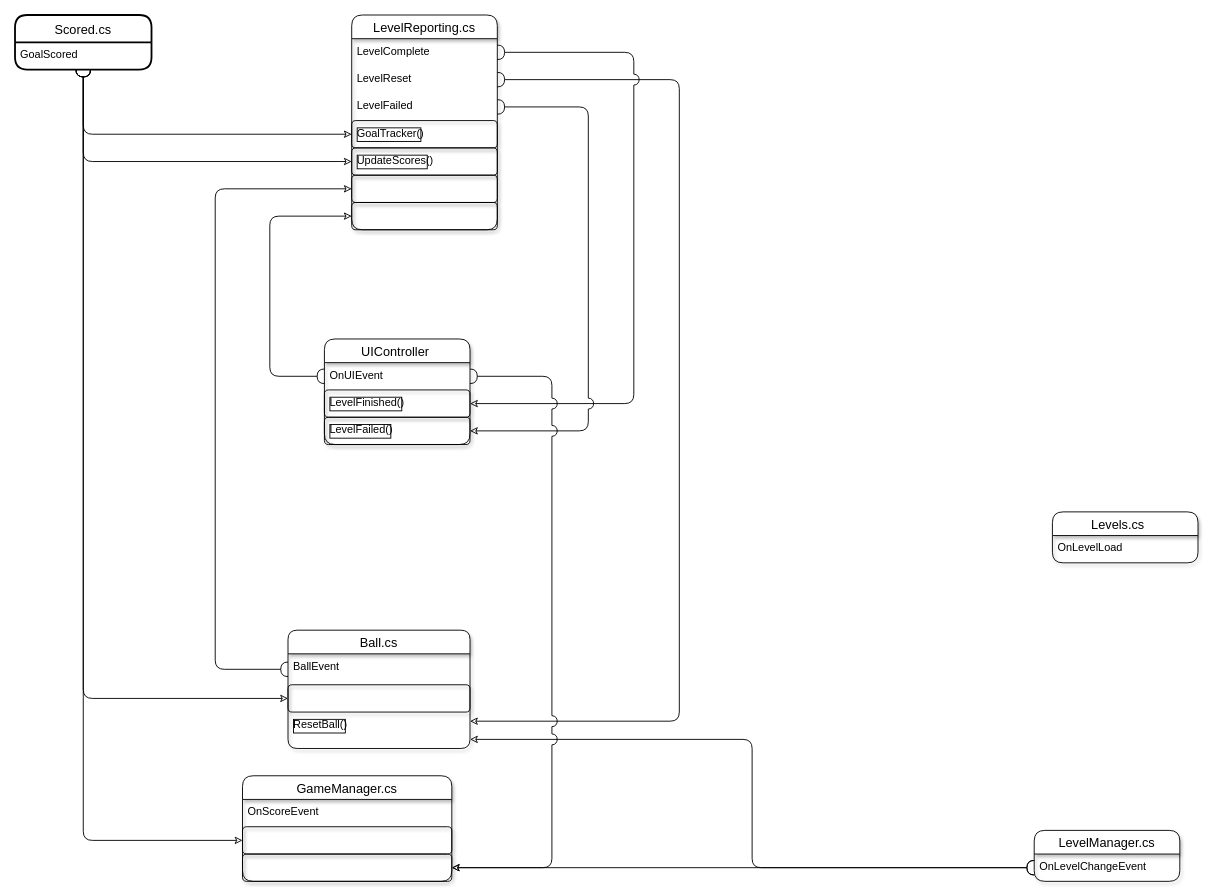
Some shapes in this 1213 by 896 pixel diagram are drawn without their labels. The centre of each missing label's shape, as x and y in pixels:
"BallLivesTracker()" belongs at (425,190).
"CheckRemainingBaskets()" belongs at (379,699).
"RecordAndUpdateScoreboard()" belongs at (347,841).
"ResetLevel()" belongs at (425,217).
"ResetTimer()" belongs at (347,868).
